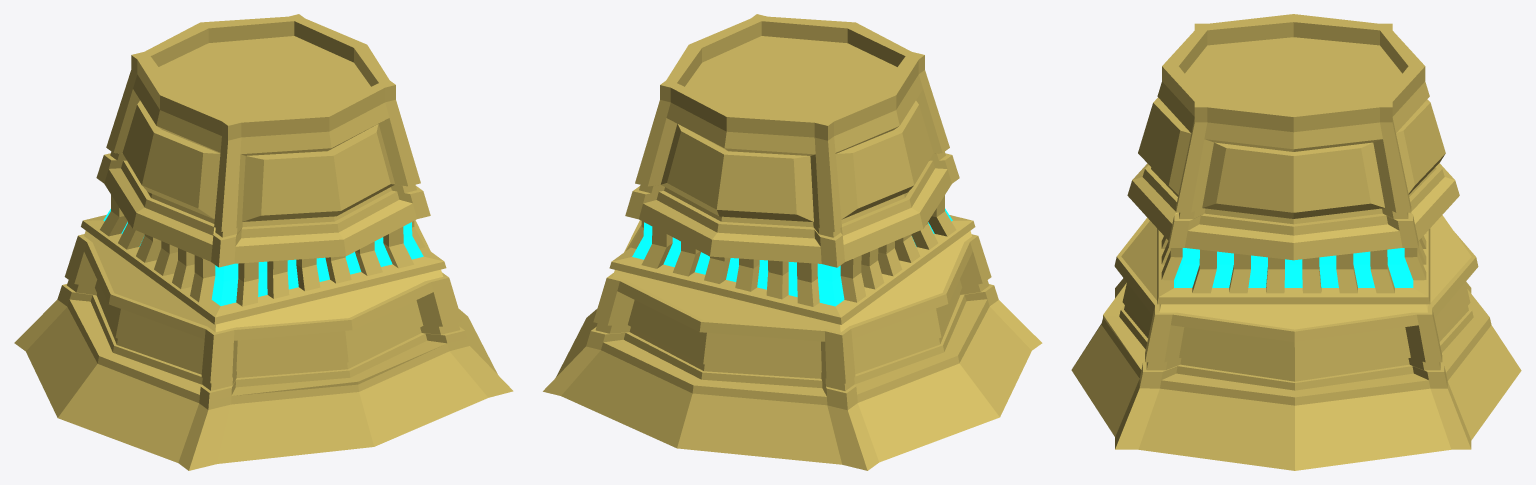
The model's file is Desert_Structure_Boss_Tower.fbx.
The picture shows the model from 3 angles, left to right: view 1: azimuth 30°, elevation 25°; view 2: azimuth 150°, elevation 25°; view 3: azimuth 270°, elevation 25°; orthographic projection. The views are drawn at different scales.
Parts seen in each view (by area): view 1: Desert_Structure_Boss_Tower; view 2: Desert_Structure_Boss_Tower; view 3: Desert_Structure_Boss_Tower.
Boxes of the visible parts, left/top/right/bottom form: Desert_Structure_Boss_Tower: left=14, top=14, right=513, bottom=470; Desert_Structure_Boss_Tower: left=543, top=14, right=1042, bottom=470; Desert_Structure_Boss_Tower: left=1071, top=14, right=1521, bottom=470.
Bounding box in the file's own units: 119 × 82.25 × 111.
